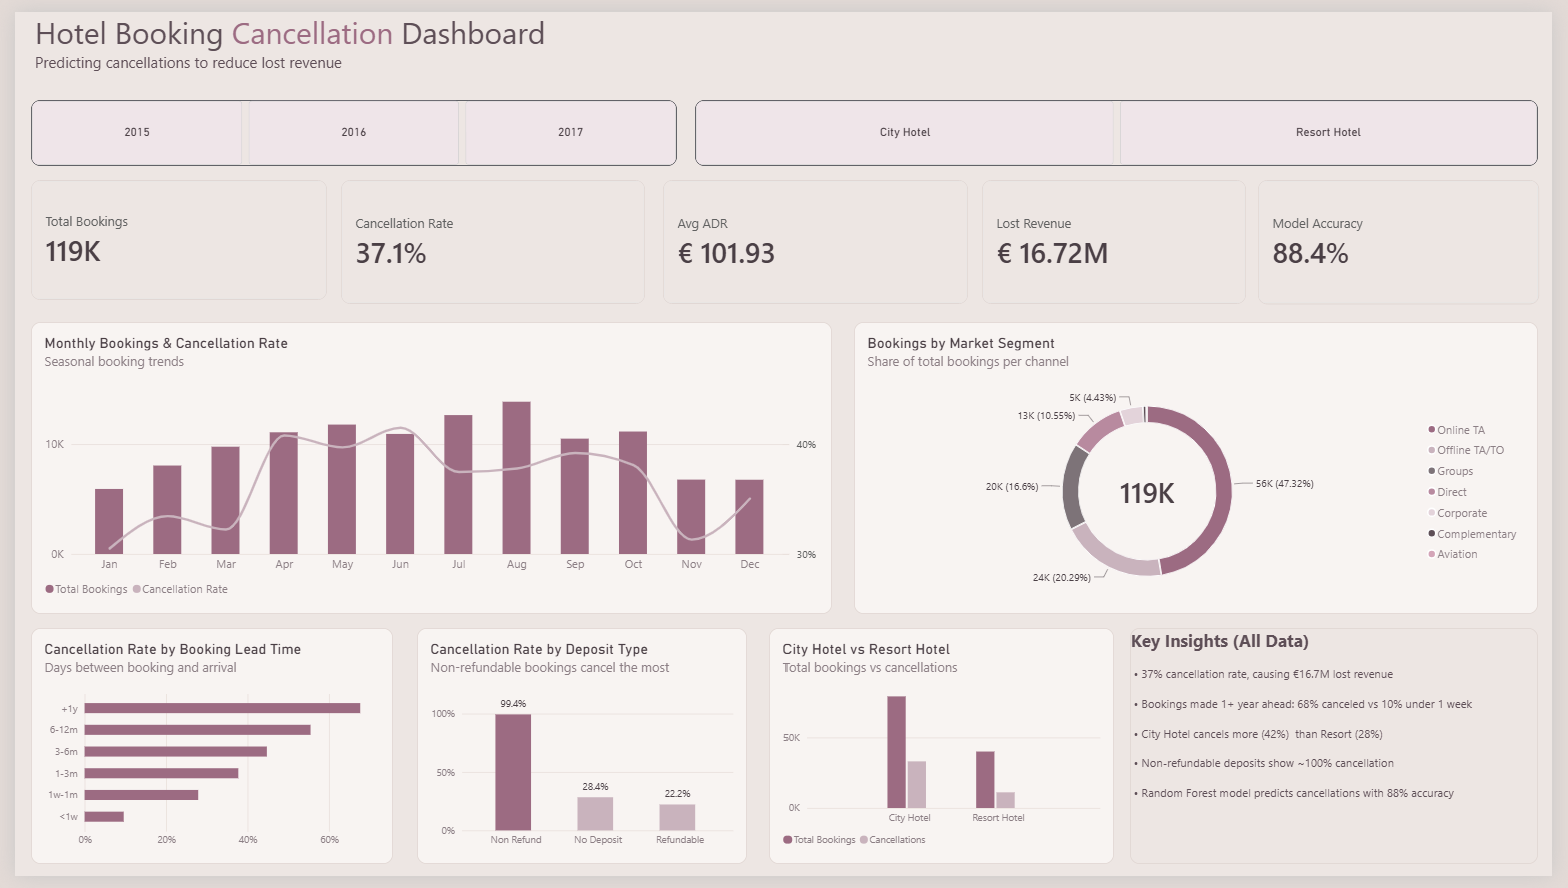

The dashboard page shown, as its layout file describes it:
{"tool":"powerbi","page":{"name":"Page 1","canvas":[1920,1080],"ordinal":0},"visuals":[{"type":"cardVisual","fields":{"Data":["hotel_clean.Total Bookings"]},"box":[20,210,370,150],"z":0},{"type":"cardVisual","fields":{"Data":["hotel_clean.Cancellation Rate"]},"box":[407.5,210,380,155],"z":1},{"type":"cardVisual","fields":{"Data":["hotel_clean.Avg ADR"]},"box":[810,210,380,155],"z":2},{"type":"cardVisual","fields":{"Data":["hotel_clean.Lost Revenue"]},"box":[1207.1,210,330,155],"z":3},{"type":"donutChart","title":"Bookings by Market Segment","fields":{"Category":["hotel_clean.market_segment"],"Y":["hotel_clean.Total Bookings"]},"box":[1047.5,387.5,855,365],"z":4},{"type":"clusteredBarChart","title":"Cancellation Rate by Booking Lead Time","fields":{"Category":["hotel_clean.lead_group"],"Y":["hotel_clean.Cancellation Rate"]},"box":[20,770,452.5,295],"z":5},{"type":"lineStackedColumnComboChart","title":"Monthly Bookings & Cancellation Rate","fields":{"Category":["hotel_clean.Month"],"Y":["hotel_clean.Total Bookings"],"Y2":["hotel_clean.Cancellation Rate"]},"box":[20,387.5,1000,365],"z":6},{"type":"clusteredColumnChart","title":"City Hotel vs Resort Hotel","fields":{"Category":["hotel_clean.hotel"],"Y":["hotel_clean.Total Bookings","hotel_clean.Cancellations"]},"box":[942.5,770,430,295],"z":7},{"type":"textbox","box":[1392.5,770,510,295],"z":12},{"type":"cardVisual","fields":{"Data":["hotel_clean.Model Accuracy"]},"box":[1551.4,210,351.4,155.7],"z":13},{"type":"clusteredColumnChart","title":"Cancellation Rate by Deposit Type","fields":{"Category":["hotel_clean.deposit_type"],"Y":["hotel_clean.Cancellation Rate"]},"box":[502.5,770,412.5,295],"z":14},{"type":"textbox","box":[24,0,1205,110],"z":15},{"type":"advancedSlicerVisual","fields":{"Values":["hotel_clean.hotel"]},"box":[850,110,1052.5,82.5],"z":16},{"type":"advancedSlicerVisual","fields":{"Values":["hotel_clean.arrival_date_year"]},"box":[20,110,807.5,82.5],"z":17}]}

Visuals, with their boxes in screenshot pixels (x1, y1, x2, y2), scaled from the page's 1920x1080 canvas onto the 1568x888 screenshot:
cardVisual - hotel_clean.Total Bookings: box(16, 173, 318, 296)
cardVisual - hotel_clean.Cancellation Rate: box(333, 173, 643, 300)
cardVisual - hotel_clean.Avg ADR: box(662, 173, 972, 300)
cardVisual - hotel_clean.Lost Revenue: box(986, 173, 1255, 300)
"Bookings by Market Segment" donutChart: box(855, 319, 1554, 619)
"Cancellation Rate by Booking Lead Time" clusteredBarChart: box(16, 633, 386, 876)
"Monthly Bookings & Cancellation Rate" lineStackedColumnComboChart: box(16, 319, 833, 619)
"City Hotel vs Resort Hotel" clusteredColumnChart: box(770, 633, 1121, 876)
textbox: box(1137, 633, 1554, 876)
cardVisual - hotel_clean.Model Accuracy: box(1267, 173, 1554, 301)
"Cancellation Rate by Deposit Type" clusteredColumnChart: box(410, 633, 747, 876)
textbox: box(20, 0, 1004, 90)
advancedSlicerVisual - hotel_clean.hotel: box(694, 90, 1554, 158)
advancedSlicerVisual - hotel_clean.arrival_date_year: box(16, 90, 676, 158)
